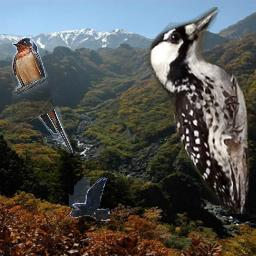Crow: (69, 177, 110, 221)
Swallow: (12, 37, 73, 153)
Woodpecker: (145, 7, 249, 214)
